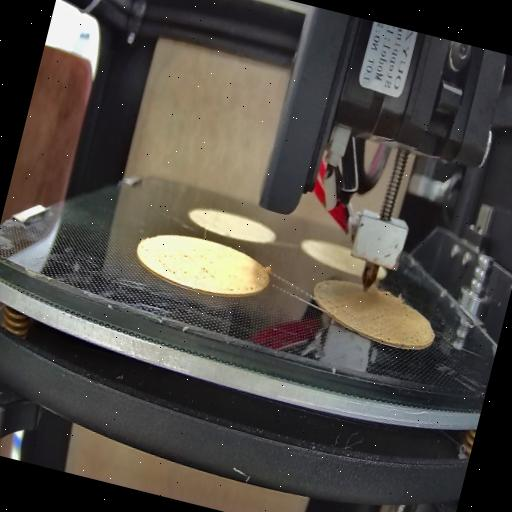under_extrusion: (135, 242, 259, 299), (382, 309, 432, 353), (314, 294, 356, 322)
